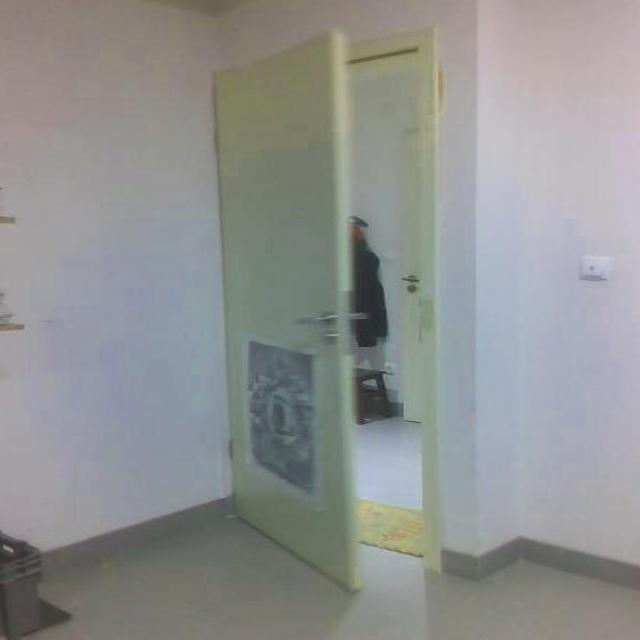door: (200, 21, 364, 601)
